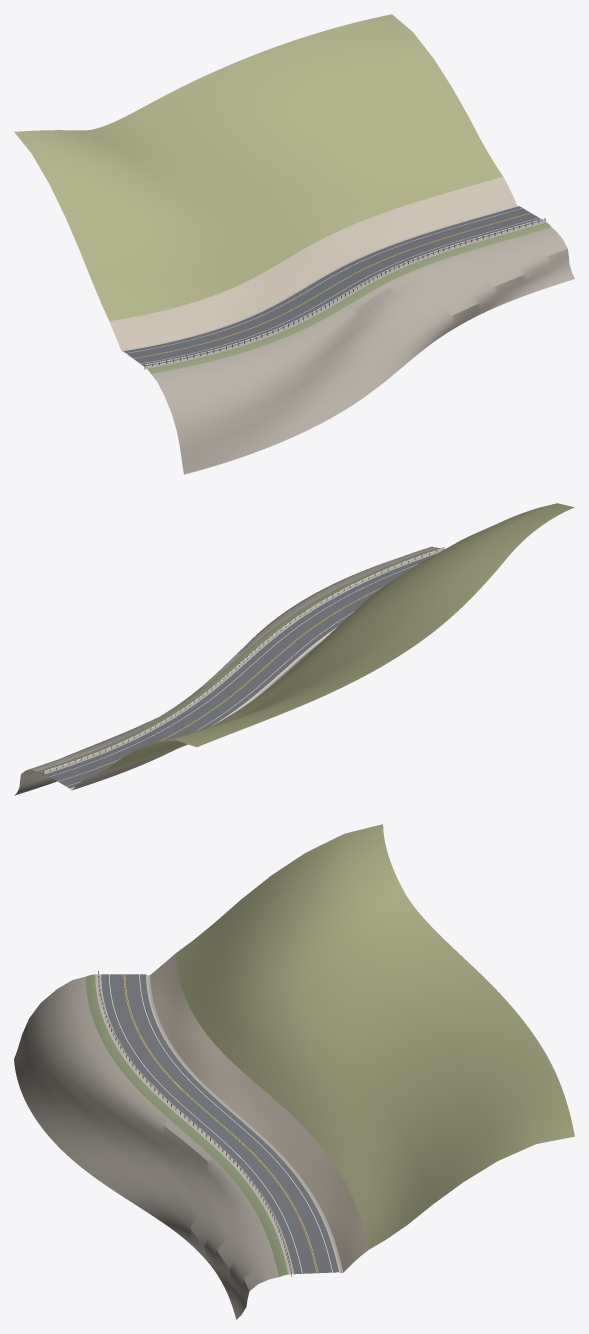
The picture shows the model from 3 angles, top to bottom: view 1: azimuth 30°, elevation 25°; view 2: azimuth 210°, elevation 25°; view 3: azimuth 270°, elevation 25°; orthographic projection. The views are drawn at different scales.
Visible parts, largest first — view 1: Hillside, Cliff, RoadCut, Asphalt, Verge, Gravel, EdgeLines, Guardrail; view 2: Hillside, Asphalt, Cliff, Gravel, Verge, Guardrail, RoadCut, EdgeLines, CenterLine; view 3: Hillside, Cliff, Asphalt, RoadCut, Verge, Gravel, EdgeLines, CenterLine.
Part boxes in pixels (x1,y1,x2,y2): Hillside: [14, 14, 502, 320]; Cliff: [151, 227, 574, 474]; RoadCut: [109, 177, 516, 350]; Asphalt: [123, 206, 542, 366]; Verge: [147, 222, 551, 373]; Gravel: [121, 205, 546, 368]; EdgeLines: [127, 208, 537, 363]; Guardrail: [145, 218, 544, 365]; Hillside: [94, 503, 574, 775]; Asphalt: [45, 554, 435, 788]; Cliff: [14, 546, 437, 795]; Gravel: [42, 549, 442, 790]; Verge: [37, 548, 440, 772]; Guardrail: [44, 547, 443, 771]; RoadCut: [72, 642, 321, 790]; EdgeLines: [50, 564, 417, 786]; CenterLine: [58, 587, 382, 781]; Hillside: [176, 824, 574, 1249]; Cliff: [14, 976, 278, 1319]; Asphalt: [101, 974, 338, 1274]; RoadCut: [150, 953, 368, 1272]; Verge: [85, 974, 288, 1276]; Gravel: [95, 974, 343, 1274]; EdgeLines: [109, 974, 332, 1273]; CenterLine: [123, 974, 318, 1272].
Bounding box in the file's own units: 143 × 60.34 × 130.
